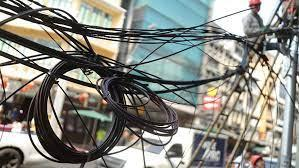wires: (28, 45, 185, 166), (0, 0, 271, 66)
